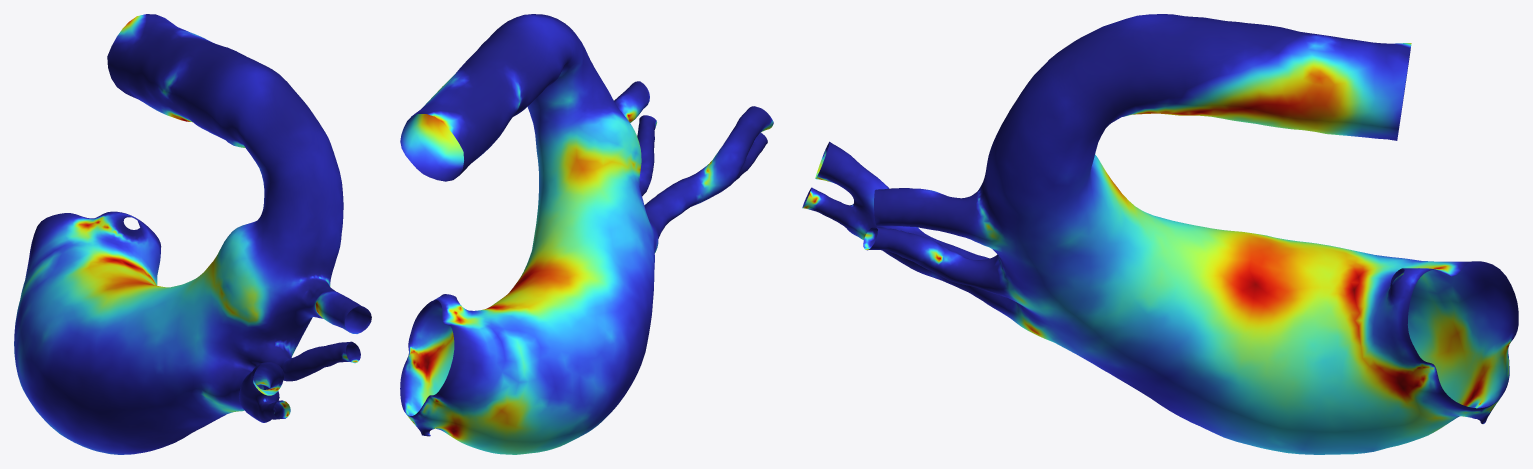
Rendered from Non-Directionl-OSI.glb.
The picture shows the model from 3 angles, left to right: view 1: azimuth 30°, elevation 25°; view 2: azimuth 150°, elevation 25°; view 3: azimuth 270°, elevation 25°; orthographic projection. The views are drawn at different scales.
Size of the model in its own units: 66.6 by 124 by 169.
1 material, 1 textured.
